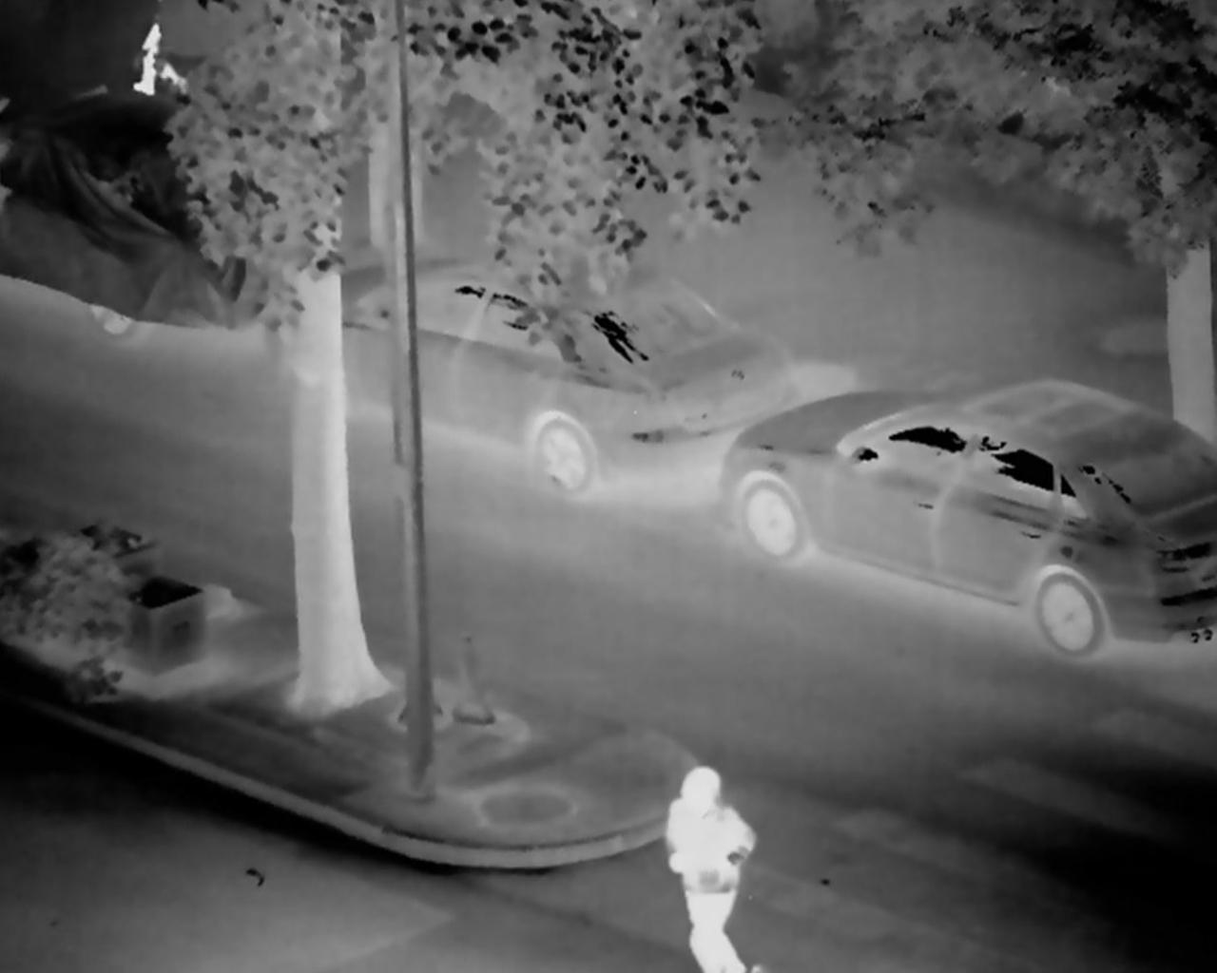person: (660, 763, 767, 973)
